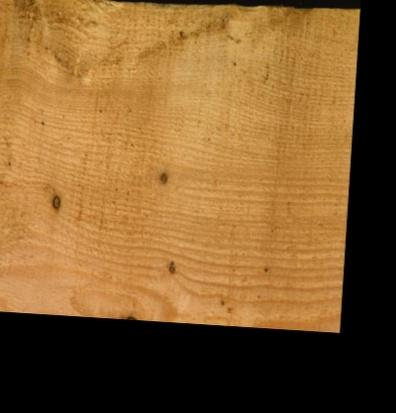dry_knot: (157, 169, 167, 184)
small_knot: (164, 259, 176, 274)
